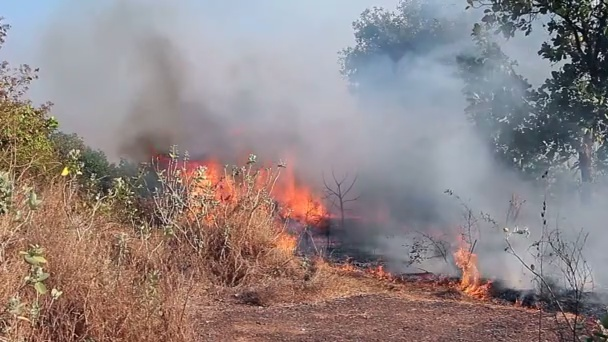fire: (455, 252, 483, 302), (60, 166, 70, 173)
